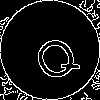Q: (25, 25, 84, 87)
